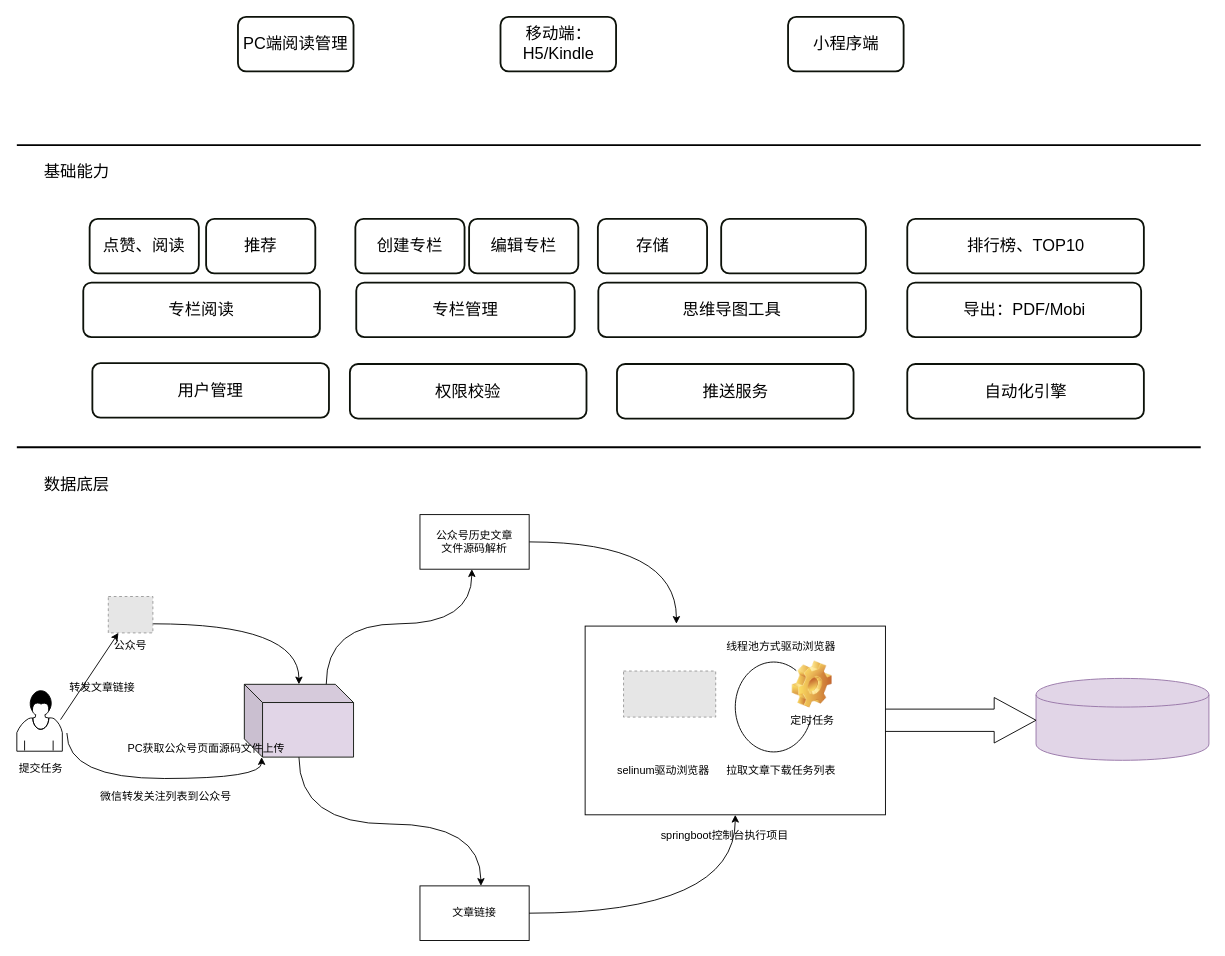
Image size: 1225x956. Some labels were removed from this diagram. Grey dashed boxes stand in for pictures. Here are the shapes that lost their labels. From the top down, the centre of each, then its label:
(793,245): 生成文章大纲
(298,720): 后端服务
(1122,718): 文章存储
